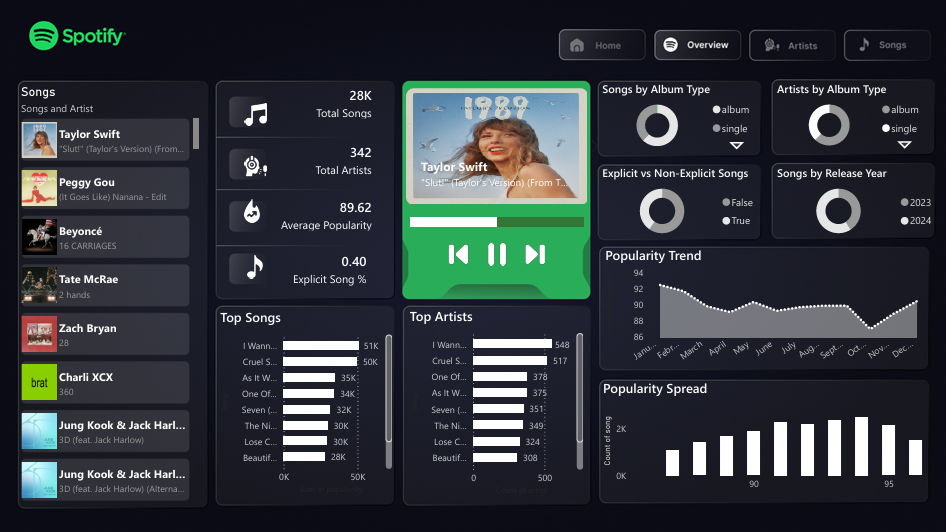

The dashboard page shown, as its layout file describes it:
{"tool":"powerbi","page":{"name":" Overview","canvas":[1280,720],"ordinal":1},"visuals":[{"type":"clusteredBarChart","title":"Top Songs","fields":{"Category":["Top-50-world.song"],"Y":["Sum(Top-50-world.popularity)"]},"box":[296.6,414.7,240.5,253.4],"z":0},{"type":"donutChart","title":"Explicit vs Non-Explicit Songs","fields":{"Category":["Top-50-world.is_explicit"],"Y":["CountNonNull(Top-50-world.song)"]},"box":[809,223,221,104],"z":1000},{"type":"clusteredColumnChart","title":" Popularity Spread","fields":{"Category":["Top-50-world.popularity"],"Y":["CountNonNull(Top-50-world.song)"]},"box":[809.7,509,445.1,159.6],"z":2000},{"type":"clusteredBarChart","title":"Top Artists  ","fields":{"Category":["Top-50-world.song"],"Y":["CountNonNull(Top-50-world.artist)"]},"box":[551,413.2,241.9,255.3],"z":3000},{"type":"donutChart","title":"Songs by Album Type","fields":{"Y":["CountNonNull(Top-50-world.song)"],"Category":["Top-50-world.album_type"]},"box":[809.3,110.9,220.3,99.4],"z":4000},{"type":"cardVisual","fields":{"Data":["_Measures.Total Songs"]},"box":[295.6,102.5,238.5,75.6],"z":5000},{"type":"lineChart","title":" Popularity Trend","fields":{"Category":["Top-50-world.date.Variation.Date Hierarchy.Month"],"Y":["_Measures.Average Popularity"]},"box":[813,330.9,440.1,166.3],"z":6000},{"type":"donutChart","title":"Artists by Album Type","fields":{"Category":["Top-50-world.album_type"],"Y":["CountNonNull(Top-50-world.artist)"]},"box":[1042.6,110.9,210.2,97.9],"z":7000},{"type":"donutChart","title":"Songs by Release Year","fields":{"Y":["CountNonNull(Top-50-world.song)"],"Category":["Top-50-world.date.Variation.Date Hierarchy.Year"]},"box":[1042.6,223.2,226.1,103.7],"z":8000},{"type":"cardVisual","fields":{"Data":["_Measures.Total Artists"]},"box":[295.6,178.1,238.5,75.6],"z":9000},{"type":"cardVisual","fields":{"Data":["_Measures.Average Popularity"]},"box":[297.3,252,236.9,75.6],"z":10000},{"type":"cardVisual","fields":{"Data":["_Measures.Explicit Song %"]},"box":[290.6,319.2,236.9,85.7],"z":11000},{"type":"advancedSlicerVisual","title":"Songs ","fields":{"Values":["Top-50-world.song"]},"box":[30.2,115.2,249.1,570.2],"z":12000},{"type":"advancedSlicerVisual","title":"Songs ","fields":{"Values":["Top-50-world.song"]},"box":[525.5,115.5,293.6,165.5],"z":13000},{"type":"hundredPercentStackedBarChart","fields":{"Y":["_Measures.Average Popularity","Avg(Top-50-world.popularity)"]},"box":[552,264,242,64],"z":14000},{"type":"image","box":[648.4,327.6,48.7,30.2],"z":15000},{"type":"image","box":[703.8,327.6,40.3,30.2],"z":16000},{"type":"image","box":[601.4,327.6,38.6,30.2],"z":17000},{"type":"shape","box":[819,124,241,289],"z":18000},{"type":"image","box":[329.2,141.1,40.3,30.2],"z":19000},{"type":"image","box":[329.2,210,40.3,30.2],"z":20000},{"type":"image","box":[329.2,270.4,40.3,30.2],"z":21000},{"type":"image","box":[315.8,344.4,65.5,30.2],"z":22000},{"type":"actionButton","box":[755,41.7,116.7,41.7],"z":23000},{"type":"actionButton","box":[885,41.7,116.7,41.7],"z":24000},{"type":"actionButton","box":[1012.2,42.2,116.7,41.1],"z":25000},{"type":"actionButton","box":[1136.7,41.7,116.7,41.7],"z":26000}]}

Visuals, with their boxes in screenshot pixels (x1, y1, x2, y2), scaled from the page's 1280x720 canvas onto the 946x532 screenshot:
"Top Songs" clusteredBarChart: 219/306/397/494
"Explicit vs Non-Explicit Songs" donutChart: 598/165/761/242
" Popularity Spread" clusteredColumnChart: 598/376/927/494
"Top Artists  " clusteredBarChart: 407/305/586/494
"Songs by Album Type" donutChart: 598/82/761/155
cardVisual - _Measures.Total Songs: 218/76/395/132
" Popularity Trend" lineChart: 601/244/926/367
"Artists by Album Type" donutChart: 771/82/926/154
"Songs by Release Year" donutChart: 771/165/938/242
cardVisual - _Measures.Total Artists: 218/132/395/187
cardVisual - _Measures.Average Popularity: 220/186/395/242
cardVisual - _Measures.Explicit Song %: 215/236/390/299
"Songs " advancedSlicerVisual: 22/85/206/506
"Songs " advancedSlicerVisual: 388/85/605/208
hundredPercentStackedBarChart - _Measures.Average Popularity x Avg(Top-50-world.popularity): 408/195/587/242
image: 479/242/515/264
image: 520/242/550/264
image: 444/242/473/264
shape: 605/92/783/305
image: 243/104/273/127
image: 243/155/273/177
image: 243/200/273/222
image: 233/254/282/277
actionButton: 558/31/644/62
actionButton: 654/31/740/62
actionButton: 748/31/834/62
actionButton: 840/31/926/62
